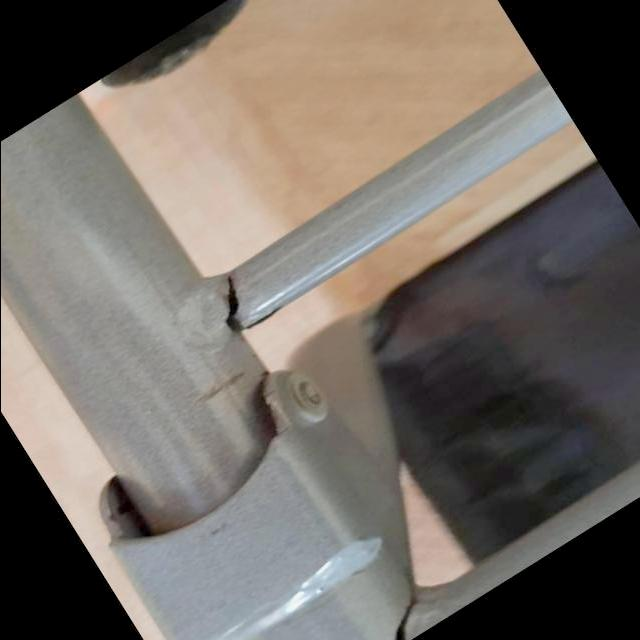defect: (221, 271, 291, 337)
